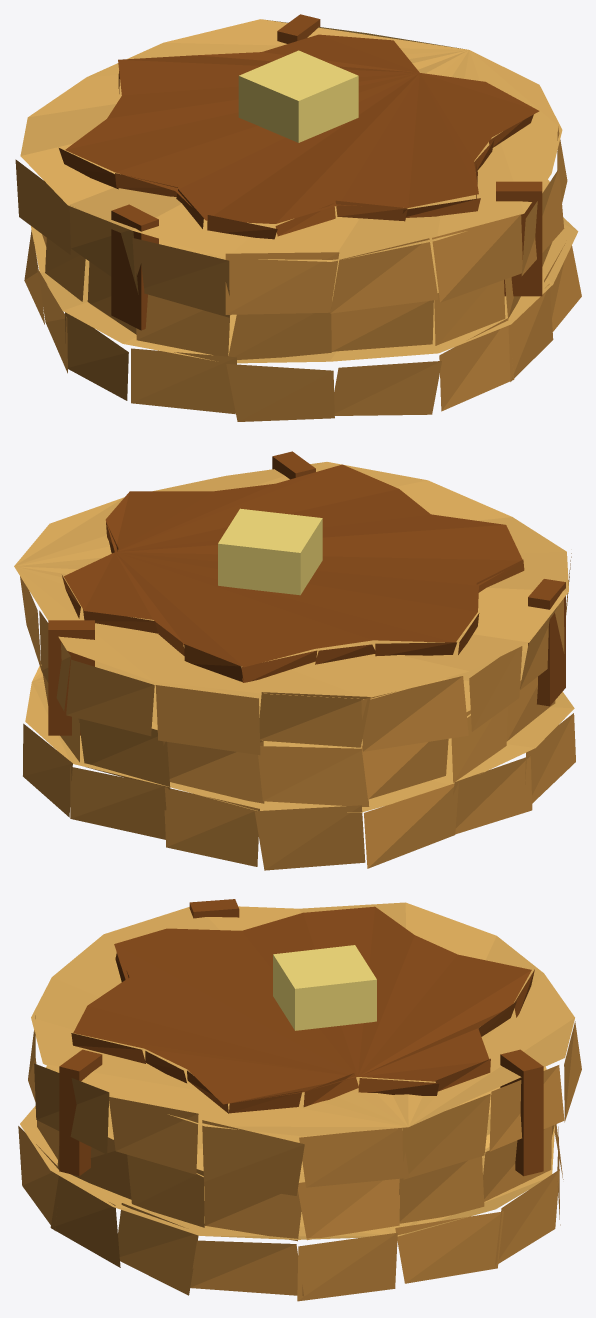
The model's file is food_pancake_stack.glb.
3 renders of one model, top to bottom at view 1: azimuth 30°, elevation 25°; view 2: azimuth 150°, elevation 25°; view 3: azimuth 270°, elevation 25°, orthographic.
Parts seen in each view (by area): view 1: food_pancake_stack; view 2: food_pancake_stack; view 3: food_pancake_stack.
Boxes of the visible parts, x1=… form: food_pancake_stack: x1=15, y1=14, x2=581, y2=421; food_pancake_stack: x1=14, y1=451, x2=575, y2=870; food_pancake_stack: x1=18, y1=899, x2=581, y2=1301.
Bounding box in the file's own units: 0.1464 × 0.0654 × 0.1472.
